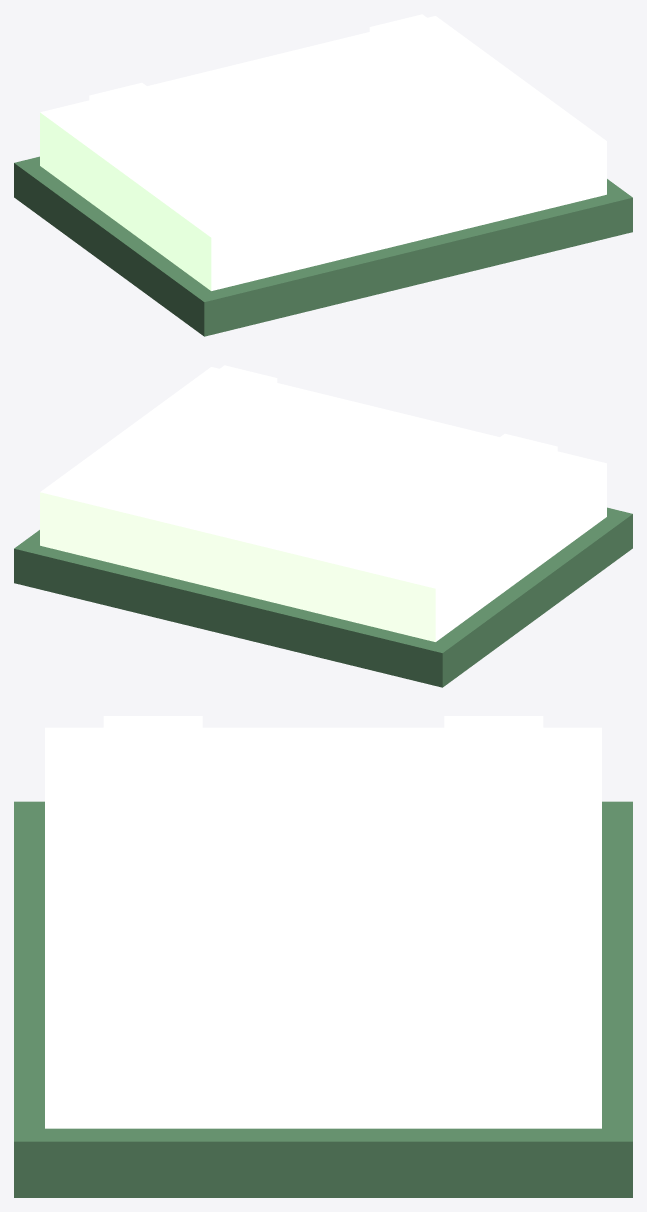
Rendered from interact_buff_hull.glb.
3 renders of one model, top to bottom at view 1: azimuth 30°, elevation 25°; view 2: azimuth 150°, elevation 25°; view 3: azimuth 270°, elevation 25°, orthographic. The views are drawn at different scales.
Parts seen in each view (by area): view 1: interact_buff_hull; view 2: interact_buff_hull; view 3: interact_buff_hull.
Boxes of the visible parts, bbox=[...] form: interact_buff_hull: bbox=[14, 14, 632, 336]; interact_buff_hull: bbox=[14, 365, 632, 687]; interact_buff_hull: bbox=[14, 716, 632, 1197].
Size of the model in its own units: 2.6 by 0.64 by 2.
